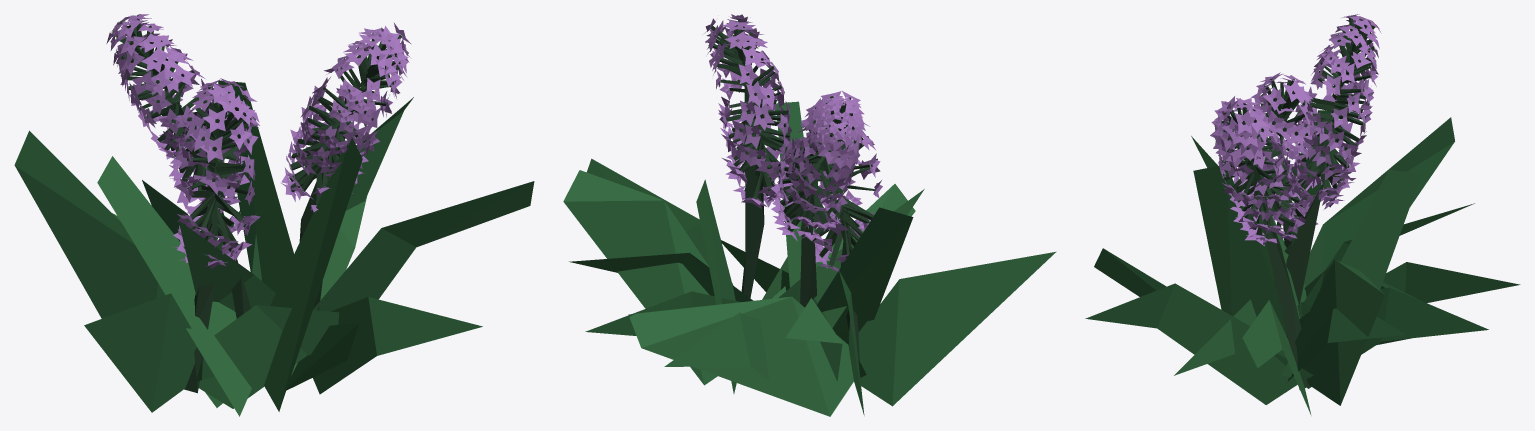
The model's file is Hyacinth.fbx.
3 renders of one model, left to right at view 1: azimuth 30°, elevation 25°; view 2: azimuth 150°, elevation 25°; view 3: azimuth 270°, elevation 25°, orthographic. The views are drawn at different scales.
Visible parts, largest first — view 1: hyacinth1Leaf, hyacinth1Flower, hyacinth1Main; view 2: hyacinth1Leaf, hyacinth1Flower, hyacinth1Main; view 3: hyacinth1Leaf, hyacinth1Flower, hyacinth1Main.
Part boxes in pixels (left/top/right/bottom): hyacinth1Leaf: left=14, top=80, right=534, bottom=416; hyacinth1Flower: left=106, top=14, right=411, bottom=268; hyacinth1Main: left=112, top=15, right=403, bottom=393; hyacinth1Leaf: left=563, top=101, right=1056, bottom=416; hyacinth1Flower: left=704, top=14, right=883, bottom=271; hyacinth1Main: left=710, top=19, right=874, bottom=360; hyacinth1Leaf: left=1085, top=110, right=1520, bottom=415; hyacinth1Flower: left=1210, top=14, right=1381, bottom=246; hyacinth1Main: left=1220, top=16, right=1376, bottom=389.
Bounding box in the file's own units: 1.87 × 1.38 × 1.64.
